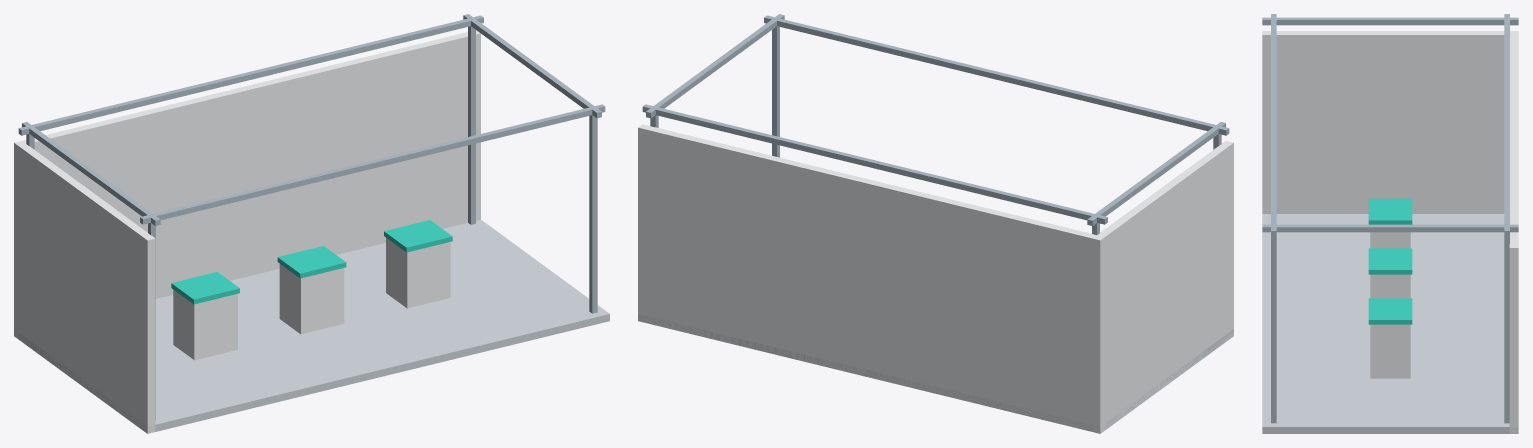
3 views of the same model, side by side, from view 1: azimuth 30°, elevation 25°; view 2: azimuth 150°, elevation 25°; view 3: azimuth 270°, elevation 25° (orthographic). The views are drawn at different scales.
Parts seen in each view (by area): view 1: Exhibition Booth Concept; view 2: Exhibition Booth Concept; view 3: Exhibition Booth Concept.
Boxes of the visible parts, x1,y1,x2,y2 form: Exhibition Booth Concept: (14, 14, 609, 433); Exhibition Booth Concept: (638, 14, 1233, 433); Exhibition Booth Concept: (1262, 14, 1518, 433).
Bounding box in the file's own units: 8 × 3.49 × 4.
